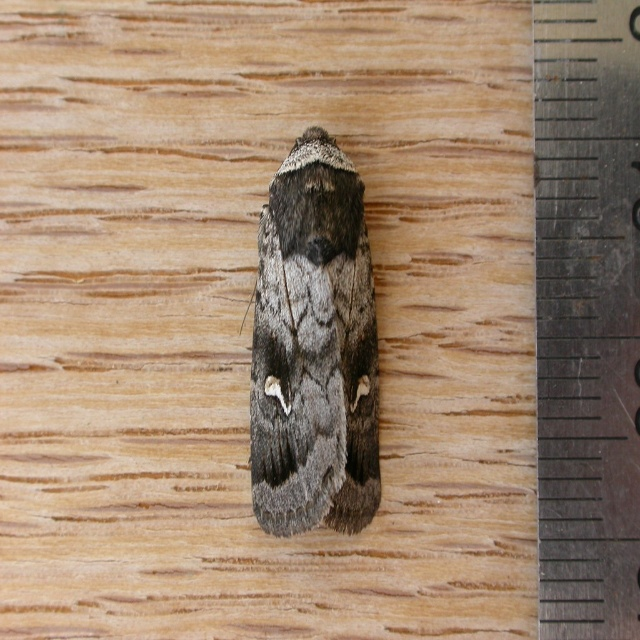Moths and butterflies: (237, 127, 385, 539)
